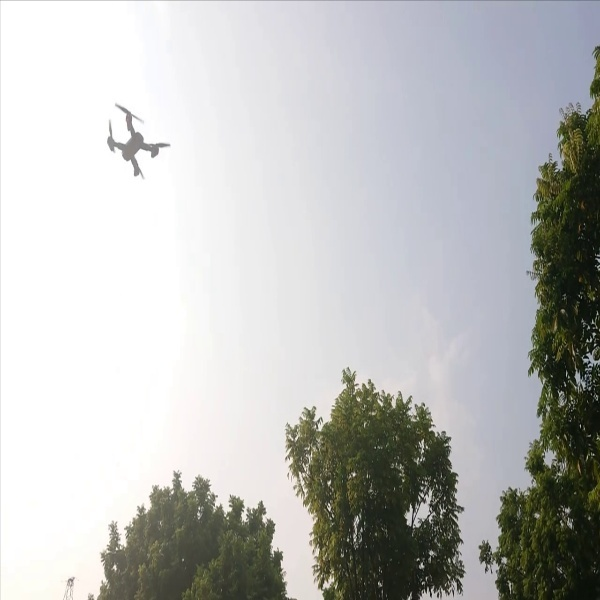drone: (92, 91, 170, 185)
